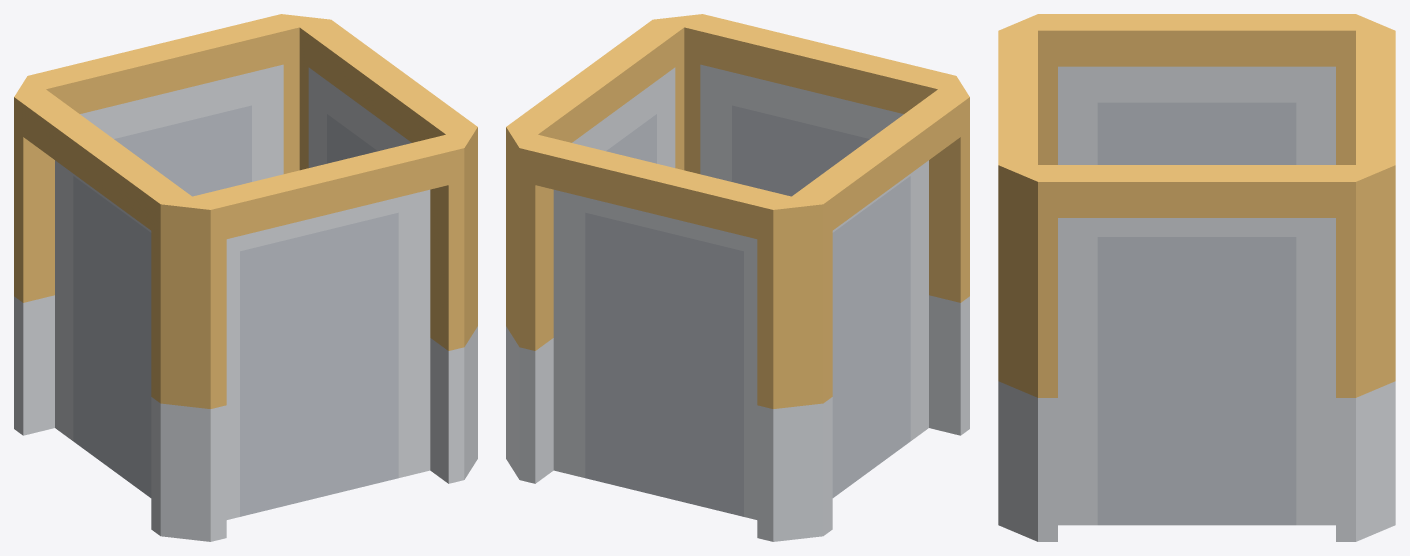
File: structure_closed.glb
The picture shows the model from 3 angles, left to right: view 1: azimuth 30°, elevation 25°; view 2: azimuth 150°, elevation 25°; view 3: azimuth 270°, elevation 25°; orthographic projection. The views are drawn at different scales.
Parts seen in each view (by area): view 1: structure_closed; view 2: structure_closed; view 3: structure_closed.
Boxes of the visible parts, bbox=[...] form: structure_closed: bbox=[14, 14, 477, 541]; structure_closed: bbox=[506, 14, 969, 541]; structure_closed: bbox=[998, 14, 1395, 541].
Size of the model in its own units: 1 by 1 by 1.
